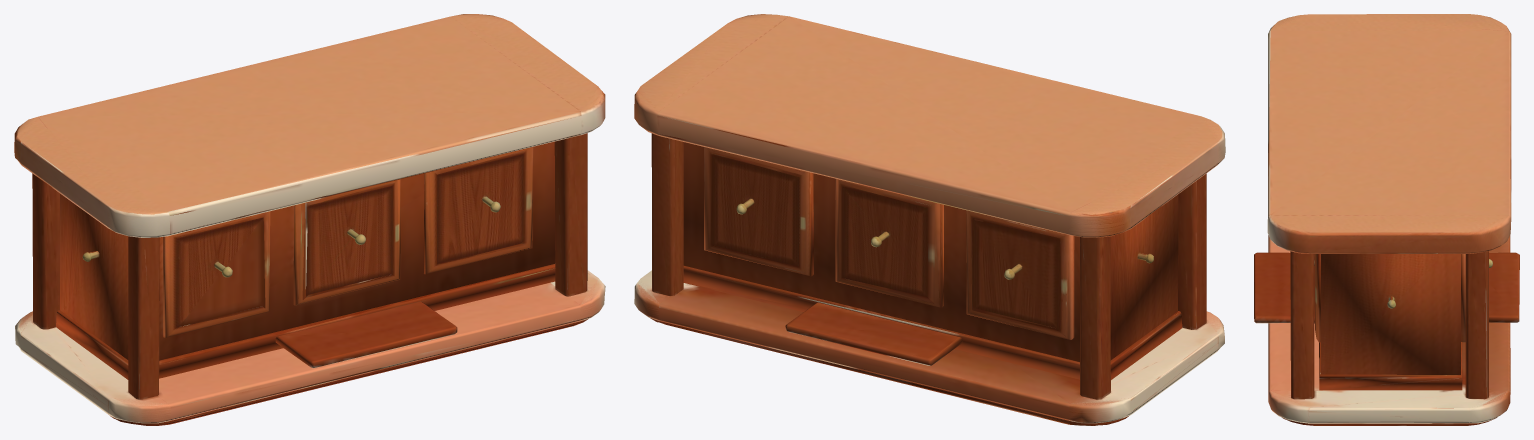
File: prop_counter_bar.glb
3 views of the same model, side by side, from view 1: azimuth 30°, elevation 25°; view 2: azimuth 150°, elevation 25°; view 3: azimuth 270°, elevation 25° (orthographic). The views are drawn at different scales.
Size of the model in its own units: 1 by 0.4206 by 0.5134.
1 material, 1 textured.
